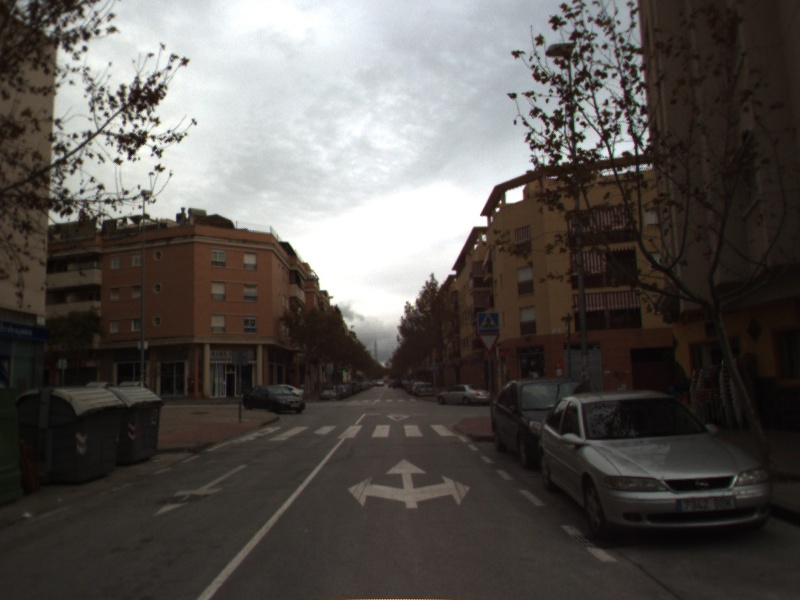STRAIGHT_LEFT_RIGHT: (346, 456, 473, 510)
